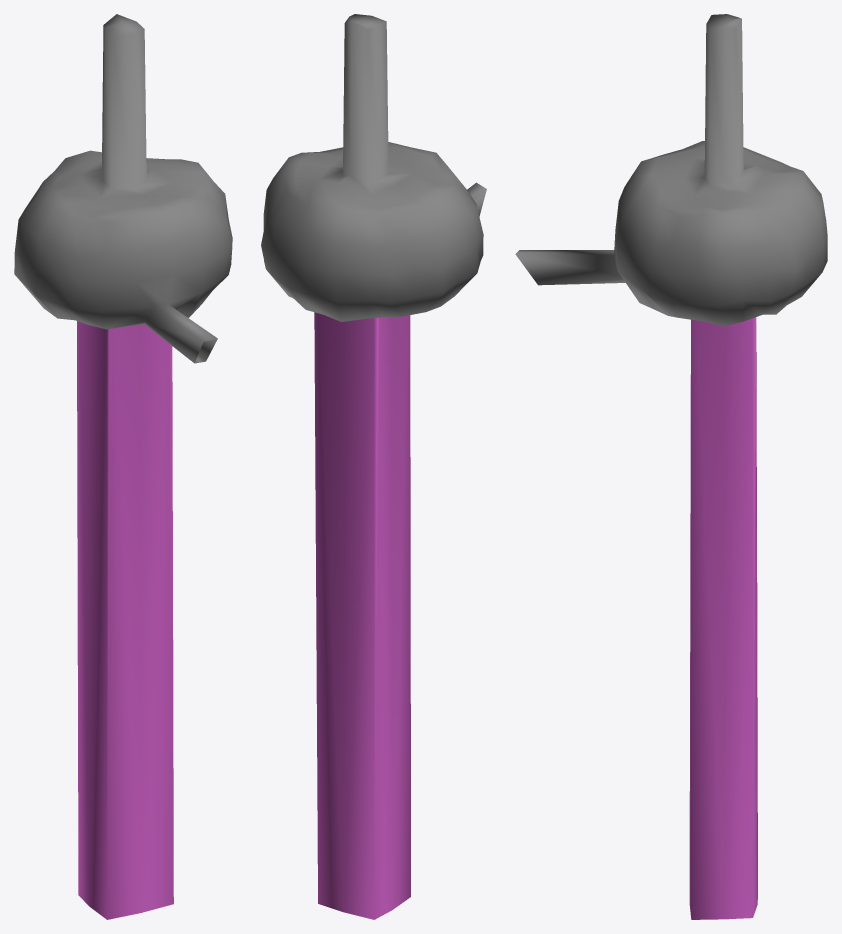
The model's file is cave.glb.
3 renders of one model, left to right at view 1: azimuth 30°, elevation 25°; view 2: azimuth 150°, elevation 25°; view 3: azimuth 270°, elevation 25°, orthographic.
Parts seen in each view (by area): view 1: Cube; view 2: Cube; view 3: Cube.
Boxes of the visible parts, bbox=[...] form: Cube: bbox=[14, 14, 232, 919]; Cube: bbox=[261, 14, 486, 919]; Cube: bbox=[515, 14, 827, 919].
Size of the model in its own units: 41.17 by 174 by 55.65.
